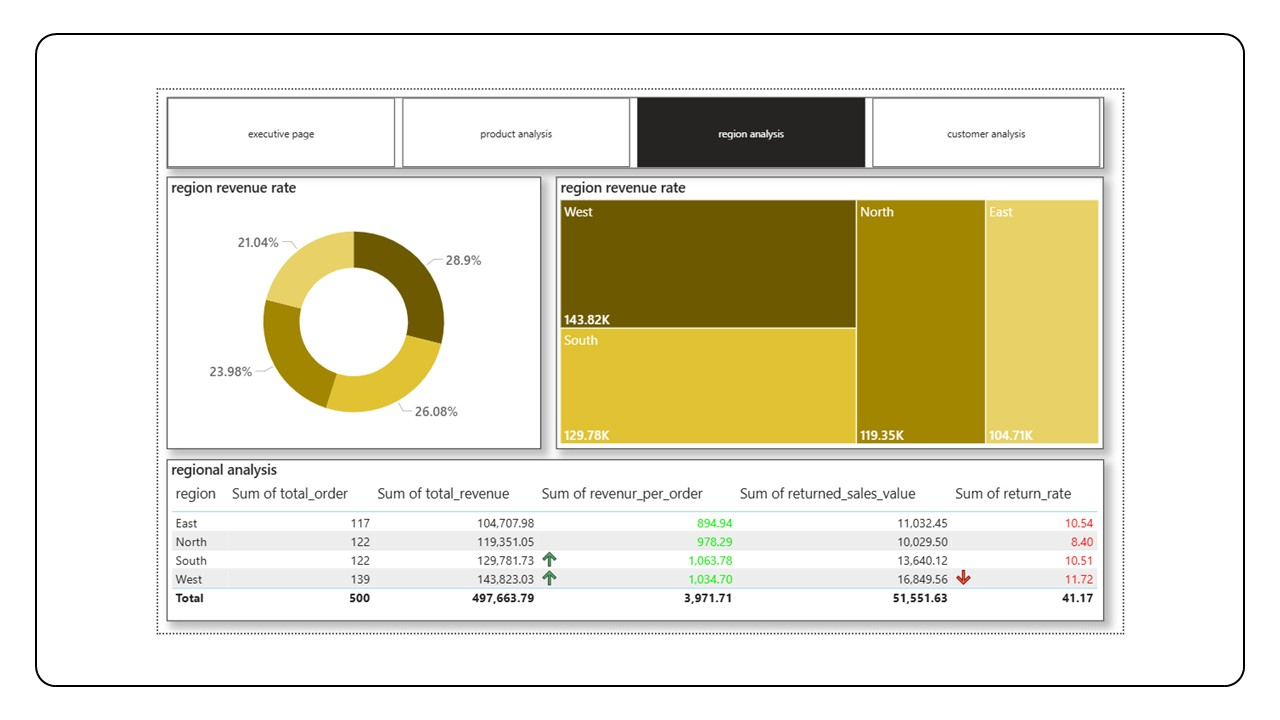

The page's visual inventory and layout, read from the dashboard file:
{"tool":"powerbi","page":{"name":"region analysis","canvas":[1280,720],"ordinal":2},"visuals":[{"type":"treemap","title":"region revenue rate","fields":{"Group":["public region_analysis.region"],"Values":["Sum(public region_analysis.total_revenue)"]},"box":[528.2,115.5,726.8,360.6],"z":0},{"type":"donutChart","title":"region revenue rate","fields":{"Category":["public region_analysis.region"],"Y":["Sum(public region_analysis.total_revenue)"],"Series":["public region_analysis.total_order"]},"box":[11.3,115.5,497.2,360.6],"z":1000},{"type":"tableEx","title":"regional analysis","fields":{"Values":["public region_analysis.region","Sum(public region_analysis.total_order)","Sum(public region_analysis.total_revenue)","Sum(public region_analysis.revenur_per_order)","Sum(public region_analysis.returned_sales_value)","Sum(public region_analysis.return_rate)"]},"box":[11.3,490.1,1243.7,214.1],"z":2000},{"type":"pageNavigator","box":[11.3,9.9,1243.7,94.4],"z":2001}]}

Visuals, with their boxes in screenshot pixels (x1, y1, x2, y2), scaled from the page's 1280x720 canvas onto the 1280x720 screenshot:
"region revenue rate" treemap: <bbox>528, 116, 1255, 476</bbox>
"region revenue rate" donutChart: <bbox>11, 116, 508, 476</bbox>
"regional analysis" tableEx: <bbox>11, 490, 1255, 704</bbox>
pageNavigator: <bbox>11, 10, 1255, 104</bbox>
